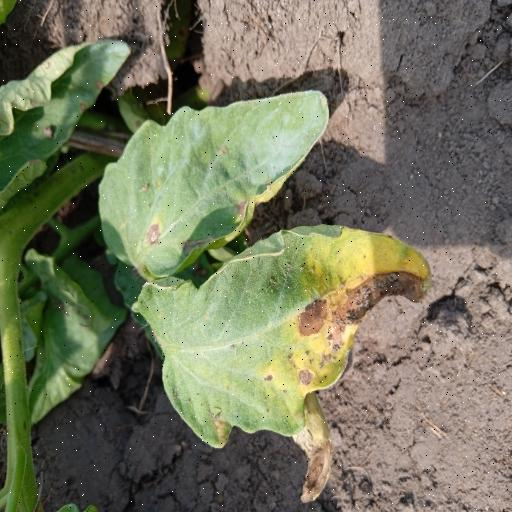Tomato_Brown_Spots: (125, 218, 433, 508), (95, 90, 330, 284)
